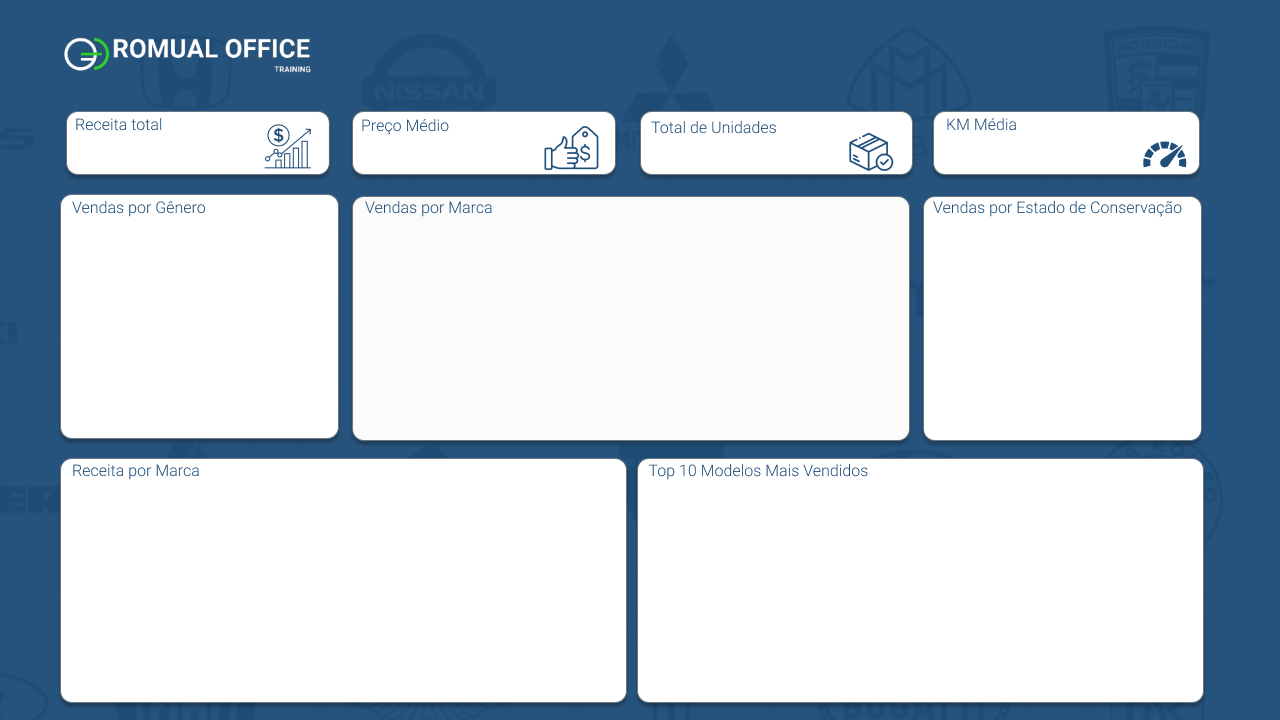

This screenshot's page, from the dashboard's own definition file:
{"tool":"powerbi","page":{"name":"Página 1","canvas":[1280,720],"ordinal":0},"visuals":[{"type":"card","fields":{"Values":["Medidas.KM Média"]},"box":[957.9,132.1,165.2,37.2],"z":0},{"type":"card","fields":{"Values":["Medidas.Contar Vendas"]},"box":[660.6,133.5,165.2,37.2],"z":1000},{"type":"card","fields":{"Values":["Medidas.Preço Médio"]},"box":[345.5,132.1,165.2,37.2],"z":2000},{"type":"card","fields":{"Values":["Medidas.Receita Total"]},"box":[72.9,132.1,177.5,37.2],"z":3000},{"type":"pieChart","fields":{"Category":["Bd_Vendas.GêneroCliente"],"Y":["Medidas.Contar Vendas"]},"box":[60.6,227.1,275.3,194.1],"z":4000},{"type":"clusteredBarChart","fields":{"Y":["Medidas.Contar Vendas"],"Category":["Bd_Vendas.Marca"]},"box":[379.9,202.3,509.2,236.7],"z":5000},{"type":"donutChart","fields":{"Y":["Medidas.Contar Vendas"],"Category":["Bd_Vendas.Estado de Conservação"]},"box":[929,217.5,265.6,214.7],"z":6000},{"type":"lineChart","fields":{"Y":["Medidas.Receita Total"],"Category":["Bd_Vendas.Marca"]},"box":[67.4,476.2,554.7,213.3],"z":7000},{"type":"clusteredColumnChart","fields":{"Y":["Medidas.Contar Vendas"],"Category":["Bd_Vendas.Modelo"]},"box":[673.8,476.5,510.3,212.9],"z":8000},{"type":"card","fields":{"Values":["Medidas.Dia atual"]},"box":[452.9,41.9,373.1,36.7],"z":9000},{"type":"slicer","fields":{"Values":["Bd_Vendas.LocalVenda"]},"box":[920.3,28.8,282.8,62.8],"z":10000}]}

Visuals, with their boxes in screenshot pixels (x1, y1, x2, y2), scaled from the page's 1280x720 canvas onto the 1280x720 screenshot:
card - Medidas.KM Média: 958 132 1123 169
card - Medidas.Contar Vendas: 661 134 826 171
card - Medidas.Preço Médio: 346 132 511 169
card - Medidas.Receita Total: 73 132 250 169
pieChart - Bd_Vendas.GêneroCliente x Medidas.Contar Vendas: 61 227 336 421
clusteredBarChart - Medidas.Contar Vendas x Bd_Vendas.Marca: 380 202 889 439
donutChart - Medidas.Contar Vendas x Bd_Vendas.Estado de Conservação: 929 218 1195 432
lineChart - Medidas.Receita Total x Bd_Vendas.Marca: 67 476 622 690
clusteredColumnChart - Medidas.Contar Vendas x Bd_Vendas.Modelo: 674 476 1184 689
card - Medidas.Dia atual: 453 42 826 79
slicer - Bd_Vendas.LocalVenda: 920 29 1203 92
